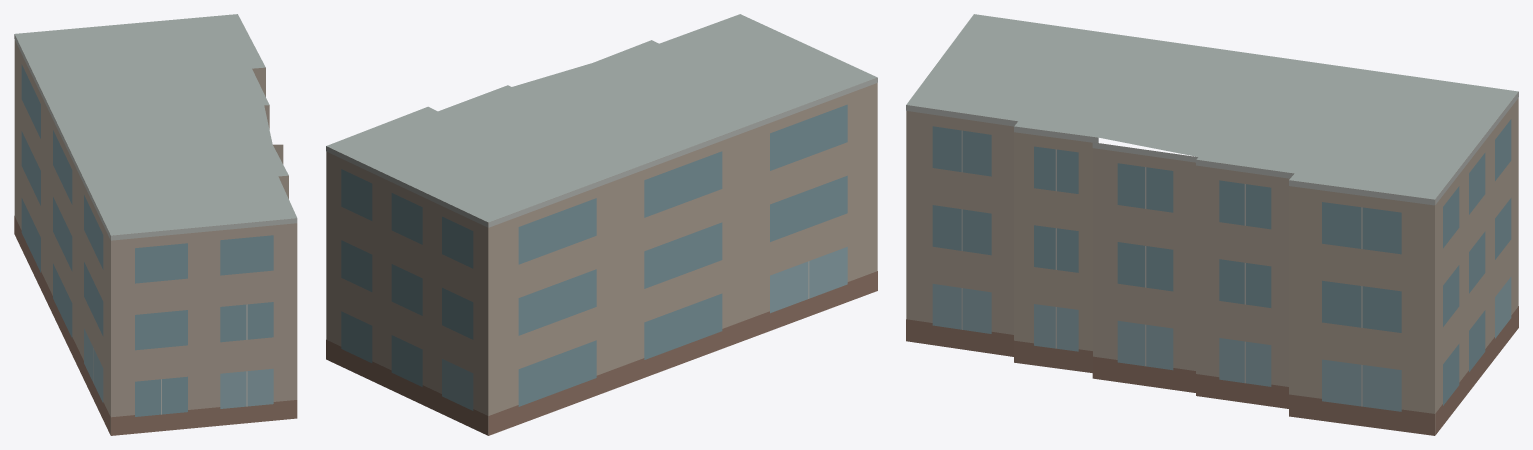
File: survey-upis-32554792.glb
3 views of the same model, side by side, from view 1: azimuth 30°, elevation 25°; view 2: azimuth 150°, elevation 25°; view 3: azimuth 270°, elevation 25° (orthographic). The views are drawn at different scales.
Parts seen in each view (by area): view 1: survey-upis-32554792.tmp; view 2: survey-upis-32554792.tmp; view 3: survey-upis-32554792.tmp.
Part boxes in pixels (left/top/right/bottom): survey-upis-32554792.tmp: left=14, top=14, right=297, bottom=435; survey-upis-32554792.tmp: left=326, top=14, right=877, bottom=435; survey-upis-32554792.tmp: left=906, top=14, right=1518, bottom=435.
Size of the model in its own units: 16.52 by 9.8 by 23.04.
